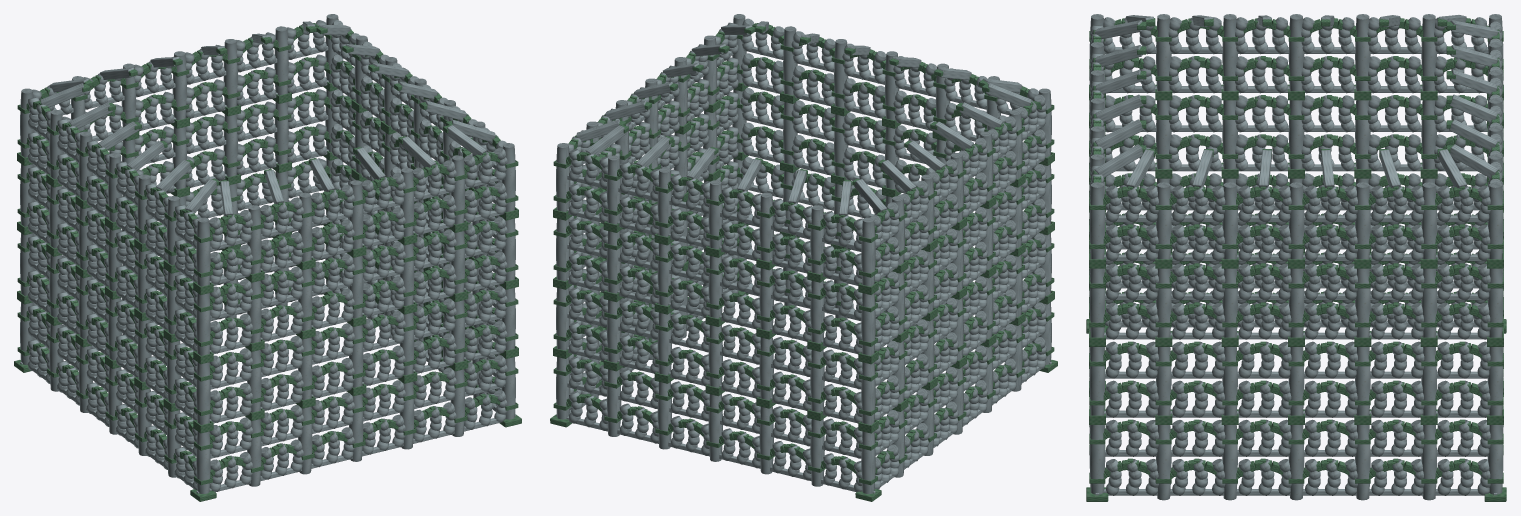
The picture shows the model from 3 angles, left to right: view 1: azimuth 30°, elevation 25°; view 2: azimuth 150°, elevation 25°; view 3: azimuth 270°, elevation 25°; orthographic projection. The views are drawn at different scales.
Visible parts, largest first — view 1: Tier 3 side 0 post 0, Tier 1 side 0 post 0, Tier 3 side 2 post 1, Tier 2 side 0 post 0, Tier 0 side 0 post 0, Tier 3 side 2 post 2, Tier 3 side 2 post 3, Tier 2 side 2 post 1, Tier 2 side 2 post 2, Tier 3 side 0 post 1, Tier 3 side 0 post 2, Tier 3 side 0 post 3 (+29 smaller); view 2: Tier 3 side 3 post 0, Tier 3 side 2 post 4, Tier 3 side 2 post 5, Tier 3 side 2 post 3, Tier 3 side 2 post 0, Tier 3 side 2 post 2, Tier 3 side 2 post 1, Tier 1 side 3 post 0, Tier 0 side 3 post 0, Tier 2 side 3 post 0, Tier 0 side 2 post 3, Tier 0 side 2 post 5 (+21 smaller); view 3: Tier 3 side 1 post 0, Tier 3 side 2 post 0, Tier 3 side 3 post 3, Tier 3 side 3 post 4, Tier 3 side 3 post 1, Tier 3 side 3 post 2, Tier 3 side 1 post 4, Tier 3 side 1 post 1, Tier 3 side 1 post 3, Tier 3 side 3 post 5, Tier 3 side 1 post 2, Tier 2 side 1 post 0 (+40 smaller).
Part boxes in pixels (x1=…): Tier 3 side 0 post 0: x1=196, y1=217, x2=210, y2=286; Tier 1 side 0 post 0: x1=196, y1=362, x2=210, y2=424; Tier 3 side 2 post 1: x1=274, y1=26, x2=288, y2=95; Tier 2 side 0 post 0: x1=196, y1=293, x2=210, y2=355; Tier 0 side 0 post 0: x1=196, y1=431, x2=210, y2=493; Tier 3 side 2 post 2: x1=223, y1=39, x2=237, y2=107; Tier 3 side 2 post 3: x1=172, y1=51, x2=186, y2=120; Tier 2 side 2 post 1: x1=274, y1=102, x2=288, y2=164; Tier 2 side 2 post 2: x1=223, y1=114, x2=237, y2=177; Tier 3 side 0 post 1: x1=247, y1=205, x2=261, y2=274; Tier 3 side 0 post 2: x1=298, y1=192, x2=312, y2=261; Tier 3 side 0 post 3: x1=349, y1=180, x2=363, y2=249; Tier 3 side 3 post 0: x1=861, y1=217, x2=875, y2=286; Tier 3 side 2 post 4: x1=759, y1=192, x2=773, y2=261; Tier 3 side 2 post 5: x1=810, y1=205, x2=824, y2=274; Tier 3 side 2 post 3: x1=708, y1=180, x2=722, y2=249; Tier 3 side 2 post 0: x1=556, y1=143, x2=570, y2=212; Tier 3 side 2 post 2: x1=657, y1=168, x2=671, y2=236; Tier 3 side 2 post 1: x1=606, y1=155, x2=621, y2=224; Tier 1 side 3 post 0: x1=861, y1=362, x2=875, y2=424; Tier 0 side 3 post 0: x1=861, y1=431, x2=875, y2=493; Tier 2 side 3 post 0: x1=861, y1=293, x2=875, y2=355; Tier 0 side 2 post 3: x1=708, y1=394, x2=722, y2=461; Tier 0 side 2 post 5: x1=810, y1=419, x2=824, y2=486; Tier 3 side 1 post 0: x1=1089, y1=182, x2=1105, y2=259; Tier 3 side 2 post 0: x1=1487, y1=182, x2=1503, y2=259; Tier 3 side 3 post 3: x1=1288, y1=14, x2=1304, y2=91; Tier 3 side 3 post 4: x1=1222, y1=14, x2=1237, y2=91; Tier 3 side 3 post 1: x1=1421, y1=14, x2=1436, y2=91; Tier 3 side 3 post 2: x1=1355, y1=14, x2=1370, y2=91; Tier 3 side 1 post 4: x1=1355, y1=182, x2=1370, y2=259; Tier 3 side 1 post 1: x1=1156, y1=182, x2=1171, y2=259; Tier 3 side 1 post 3: x1=1288, y1=182, x2=1304, y2=259; Tier 3 side 3 post 5: x1=1156, y1=14, x2=1171, y2=91; Tier 3 side 1 post 2: x1=1222, y1=182, x2=1237, y2=259; Tier 2 side 1 post 0: x1=1089, y1=268, x2=1105, y2=337.
Size of the model in its own units: 2.85 by 2.47 by 2.85.
Materials: 2 (2 with a texture image).
